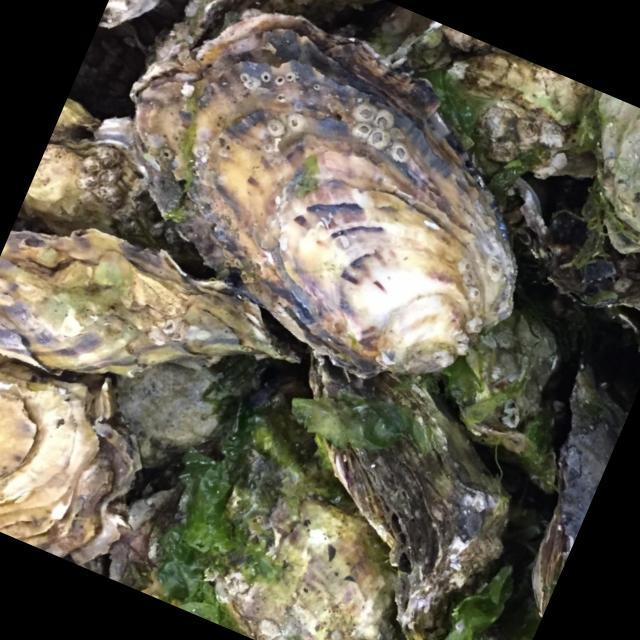Oyster- Indeterminate: (133, 369, 434, 640), (0, 96, 266, 332), (0, 228, 308, 378), (506, 360, 635, 621), (0, 356, 136, 567), (68, 483, 245, 640), (117, 358, 274, 469), (597, 91, 640, 253)
Oyster-Closed: (245, 307, 554, 640), (402, 27, 626, 197)
